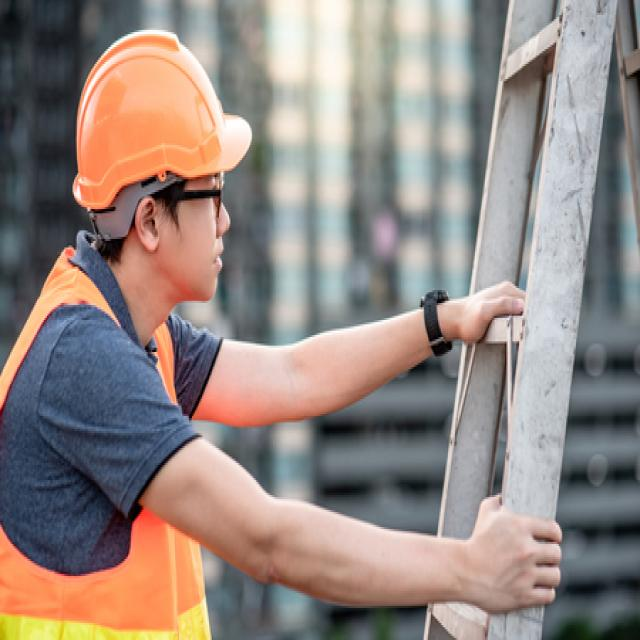goggles: (157, 175, 231, 216)
helmet: (71, 26, 257, 208)
vest: (0, 252, 217, 640)
